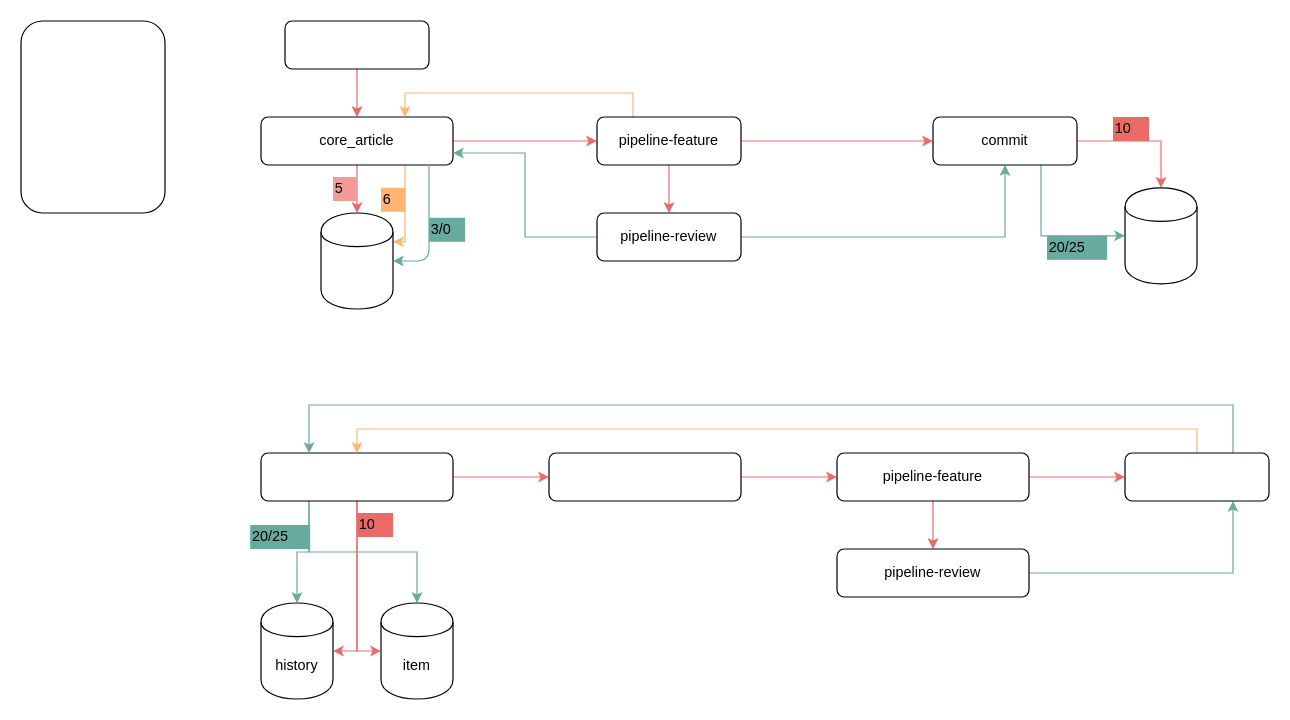
The diagram is 1290 pixels wide and 720 high, and some of its shapes have lost their labels. Each missing label, with the centre of its shape:
"5 表示存储成功 6 表示送数据流成功且送审成功 3/0 表示审核结束" belongs at [92,116].
"enqueue" belongs at [644,476].
"goarticle" belongs at [356,44].
"itemdb" belongs at [1160,235].
"pgcdb" belongs at [356,260].
"pipeline_callback" belongs at [1196,476].
"publish_item" belongs at [356,476].
